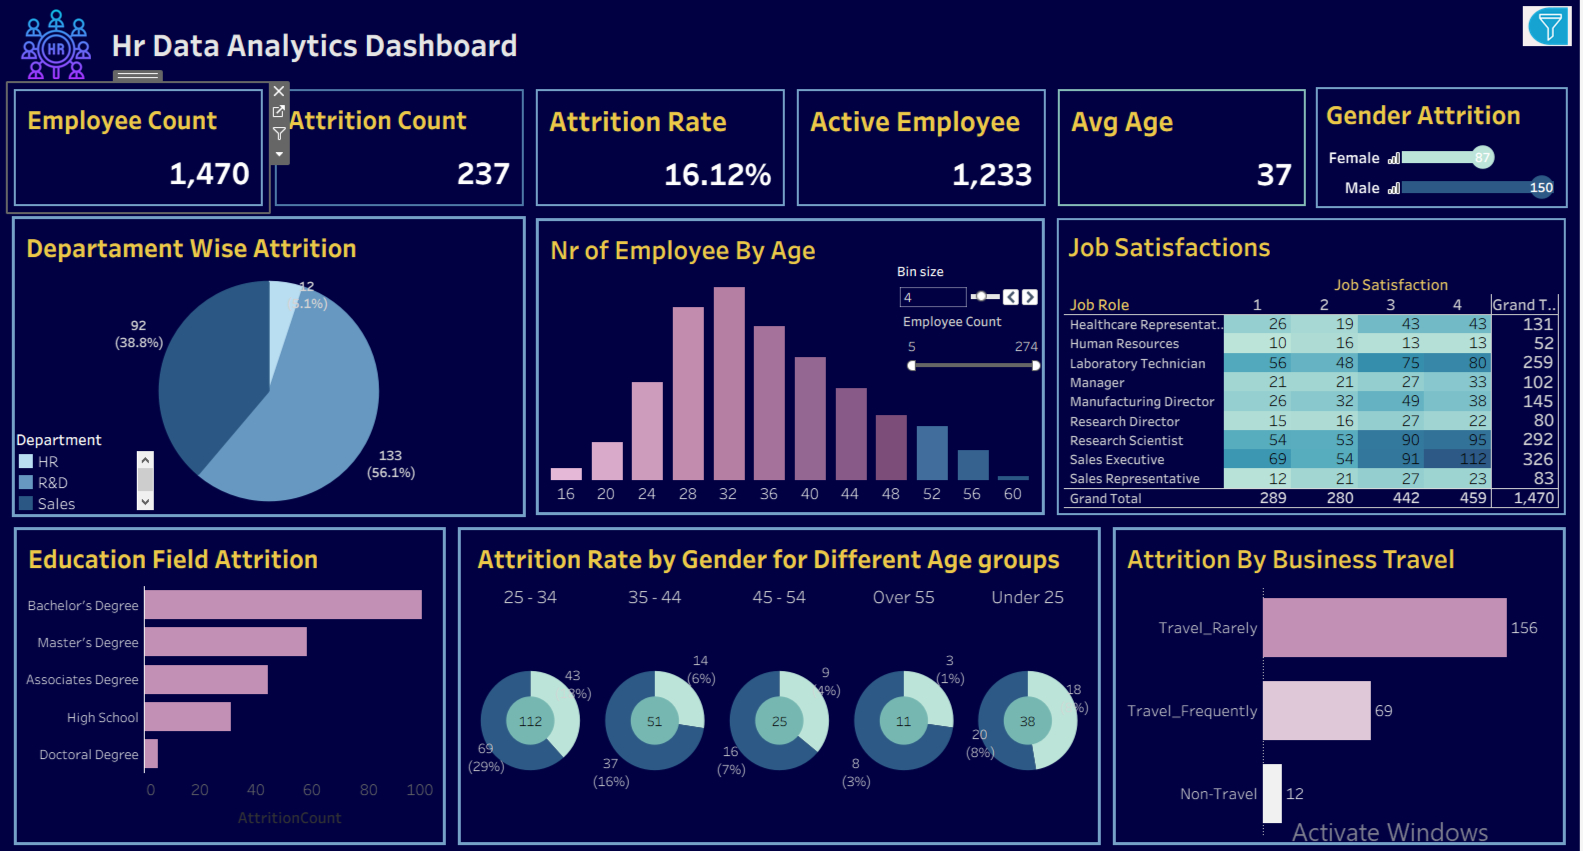

What the dashboard file says about the page in this screenshot:
{"tool":"tableau","page":{"name":"Hr Dashboard","canvas":[1000,1000],"units":"permille","ordinal":0},"visuals":[{"type":"image","param":"Image/hr.png","box":[5.1,9.3,60.8,89.9]},{"type":"text","box":[65.8,9.3,929.1,89.9]},{"type":"dashboard-object","box":[963.9,10,31,46.7]},{"type":"filter","title":"Education Field Attrition","param":"[federated.15h5iyd17nzilx13c8irr15w9pf3].[none:Education:nk]","box":[887.3,46.7,106.3,83.3]},{"type":"worksheet","title":"Employee Count","mark":"Automatic","box":[5.1,99.8,165.2,149.7]},{"type":"worksheet","title":"Attrition Count","mark":"Automatic","box":[170.2,99.8,165.2,149.7]},{"type":"worksheet","title":"Attrition Rate","mark":"Automatic","box":[335.4,99.8,165.2,149.7]},{"type":"worksheet","title":"Active Employee","mark":"Automatic","box":[500.6,99.8,165.2,149.7]},{"type":"worksheet","title":"Avg Age","mark":"Automatic","box":[665.8,99.8,164.6,149.7]},{"type":"worksheet","title":"Gender Attrition","mark":"Bar","rows":["Gender"],"cols":["Calculation_0989607716679681","Calculation_0989607716679681"],"box":[830.4,99.8,164.6,149.7]},{"type":"worksheet","title":"Departament Wise Attrition","mark":"Pie","box":[5.1,249.4,330.4,358.5]},{"type":"worksheet","title":"Nr of Employee By Age","mark":"Bar","rows":["Employee Count"],"cols":["Age (bin)"],"box":[335.4,249.4,329.8,358.5]},{"type":"worksheet","title":"Job Satisfactions","mark":"Automatic","rows":["Job Role"],"cols":["Job Satisfaction"],"box":[665.2,249.4,329.8,358.5]},{"type":"parameter","param":"[Parameters].[Parameter 0989607943217167]","box":[567.7,307.8,91.1,55.6]},{"type":"filter","title":"Nr of Employee By Age","param":"[federated.15h5iyd17nzilx13c8irr15w9pf3].[sum:Employee Count:qk]","box":[571.5,365.6,89.9,81.1]},{"type":"legend","title":"Departament Wise Attrition","param":"[federated.15h5iyd17nzilx13c8irr15w9pf3].[none:Department:nk]","box":[10.1,501.1,88.6,94.4]},{"type":"worksheet","title":"Education Field Attrition","mark":"Bar","rows":["Education"],"cols":["Calculation_0989607716679681"],"box":[5.1,607.7,281,383.1]},{"type":"worksheet","title":"Sheet 10","mark":"Pie","cols":["CF_age band","Calculation_0989607752630285","Calculation_0989607752630285"],"box":[286.1,607.7,414.6,383.1]},{"type":"worksheet","title":"Sheet 13","mark":"Automatic","rows":["Business Travel"],"cols":["Calculation_0989607716679681"],"box":[700.6,607.7,294.3,383.1]}]}

Visuals, with their boxes on the dashboard's canvas, which has no fixed pixel size, in thousandths of its width and height (x1, y1, x2, y2). These are canvas units, not pixel positions in the 1583x851 screenshot, which may show the page scaled, cropped or inside an application window:
image: pyautogui.locateOnScreen(5, 9, 66, 99)
text: pyautogui.locateOnScreen(66, 9, 995, 99)
dashboard-object: pyautogui.locateOnScreen(964, 10, 995, 57)
"Education Field Attrition" filter: pyautogui.locateOnScreen(887, 47, 994, 130)
"Employee Count" worksheet: pyautogui.locateOnScreen(5, 100, 170, 250)
"Attrition Count" worksheet: pyautogui.locateOnScreen(170, 100, 335, 250)
"Attrition Rate" worksheet: pyautogui.locateOnScreen(335, 100, 501, 250)
"Active Employee" worksheet: pyautogui.locateOnScreen(501, 100, 666, 250)
"Avg Age" worksheet: pyautogui.locateOnScreen(666, 100, 830, 250)
"Gender Attrition" worksheet (Bar marks): pyautogui.locateOnScreen(830, 100, 995, 250)
"Departament Wise Attrition" worksheet (Pie marks): pyautogui.locateOnScreen(5, 249, 336, 608)
"Nr of Employee By Age" worksheet (Bar marks): pyautogui.locateOnScreen(335, 249, 665, 608)
"Job Satisfactions" worksheet: pyautogui.locateOnScreen(665, 249, 995, 608)
parameter: pyautogui.locateOnScreen(568, 308, 659, 363)
"Nr of Employee By Age" filter: pyautogui.locateOnScreen(572, 366, 661, 447)
"Departament Wise Attrition" legend: pyautogui.locateOnScreen(10, 501, 99, 596)
"Education Field Attrition" worksheet (Bar marks): pyautogui.locateOnScreen(5, 608, 286, 991)
"Sheet 10" worksheet (Pie marks): pyautogui.locateOnScreen(286, 608, 701, 991)
"Sheet 13" worksheet: pyautogui.locateOnScreen(701, 608, 995, 991)
